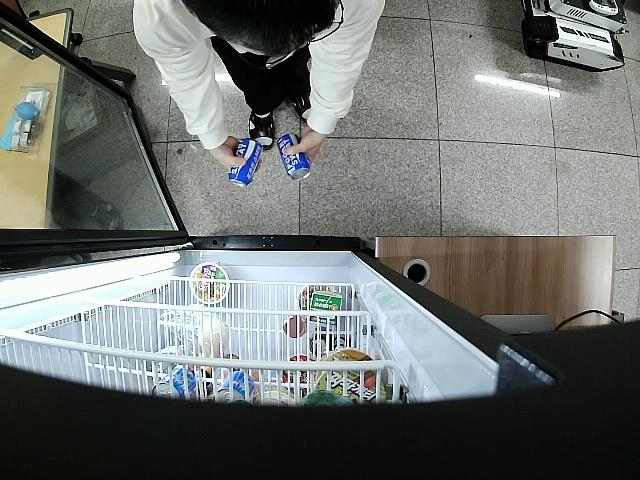00_hand: (215, 133, 265, 177), (284, 129, 322, 169)
13_pocariSweat: (225, 139, 262, 188), (277, 132, 310, 181)
